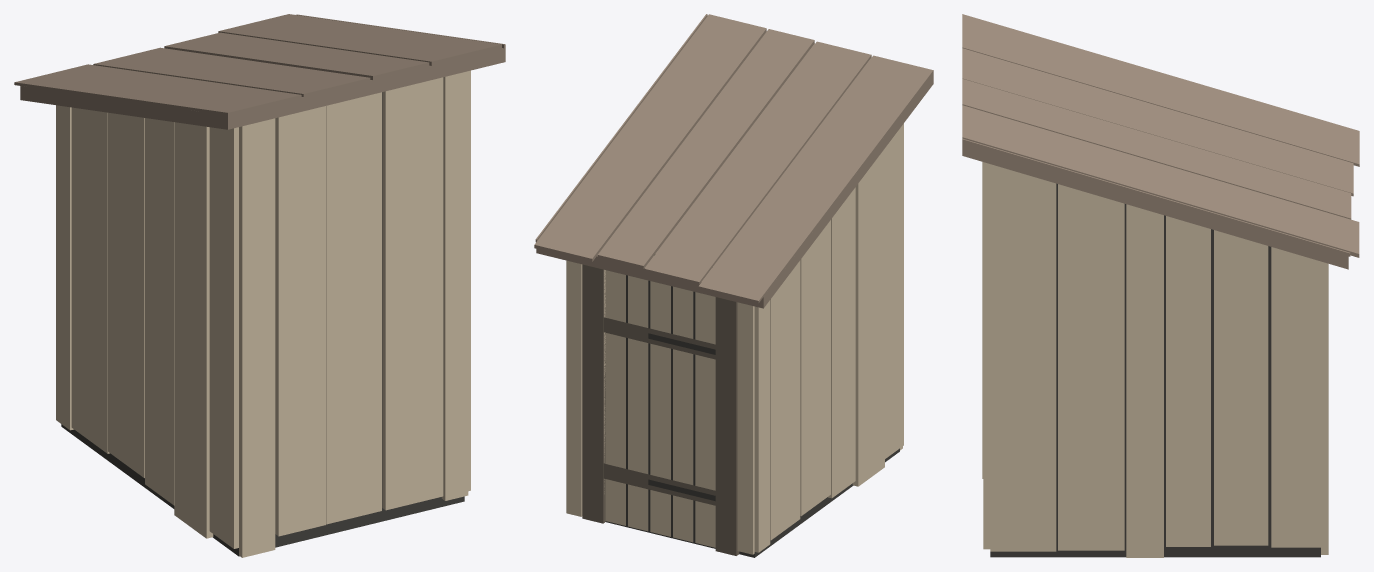
Rendered from recon_1835_blk_washington_wells_a3_08__inferred_1835.glb.
3 views of the same model, side by side, from view 1: azimuth 30°, elevation 25°; view 2: azimuth 150°, elevation 25°; view 3: azimuth 270°, elevation 25° (orthographic). The views are drawn at different scales.
Visible parts, largest first — view 1: recon_1835_blk_washington_wells_a3_08__inferred_1835; view 2: recon_1835_blk_washington_wells_a3_08__inferred_1835; view 3: recon_1835_blk_washington_wells_a3_08__inferred_1835.
Boxes of the visible parts, <box> form: recon_1835_blk_washington_wells_a3_08__inferred_1835: <box>14,14,505,557</box>; recon_1835_blk_washington_wells_a3_08__inferred_1835: <box>534,14,933,557</box>; recon_1835_blk_washington_wells_a3_08__inferred_1835: <box>962,14,1359,557</box>.
Bounding box in the file's own units: 1.74 × 2.77 × 2.32.
